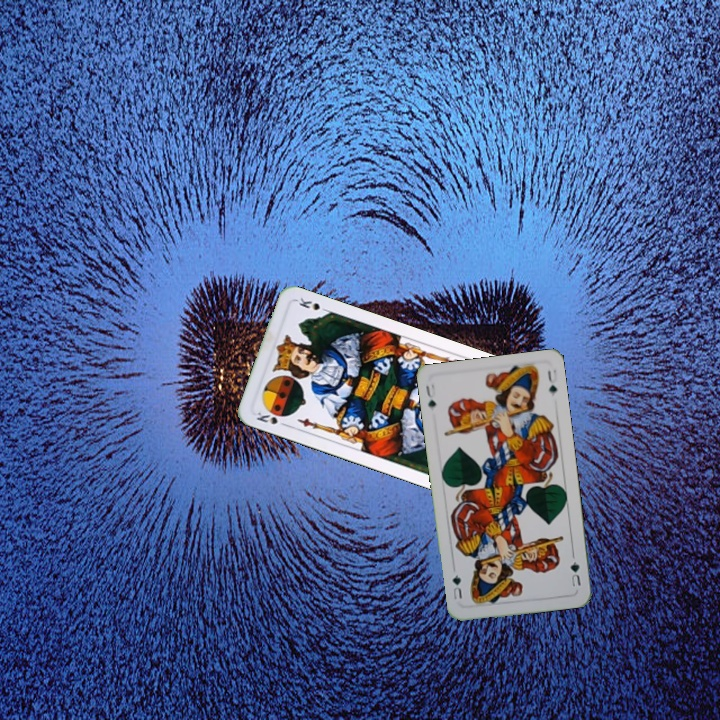GU: (566, 551, 583, 589), (422, 380, 439, 411)
SK: (252, 406, 291, 429)
